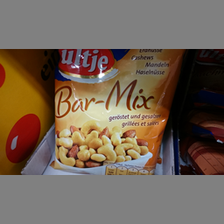nuts: (51, 49, 185, 175)
